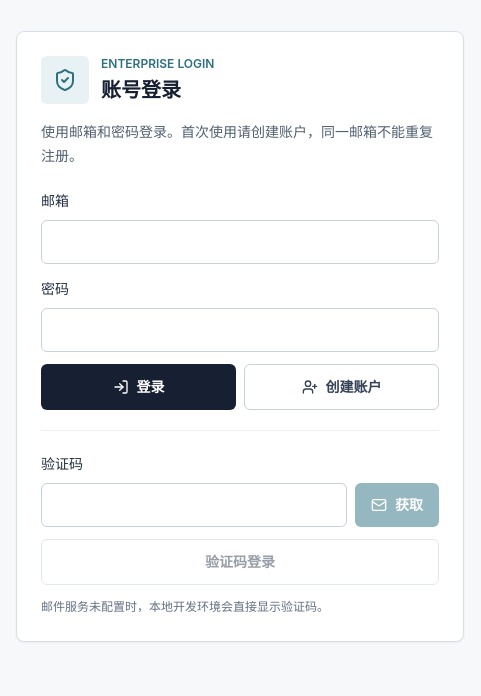
Test case: LoginPanel › shows the duplicate registration message without authenticating
The image size is (481, 696).
In the field labelled "邮箱": (240, 242) 41,220 -> 439,264, type "user@example.com"
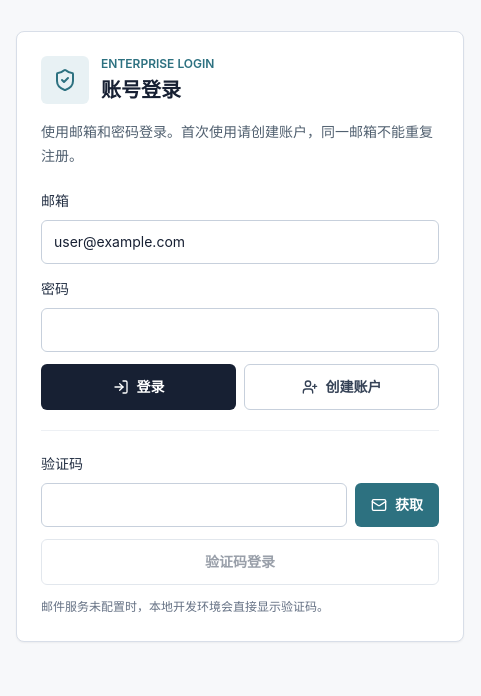
In the password field labelled "密码": (240, 330) 41,308 -> 439,352, type "secure123"
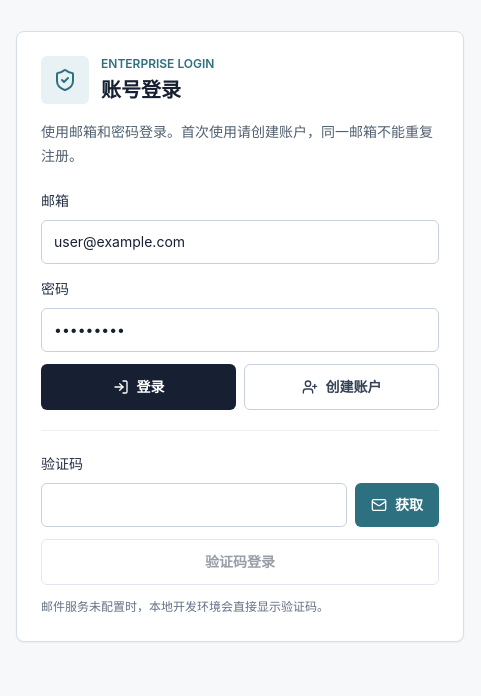
Click the button "创建账户": (342, 386) 244,364 -> 439,410
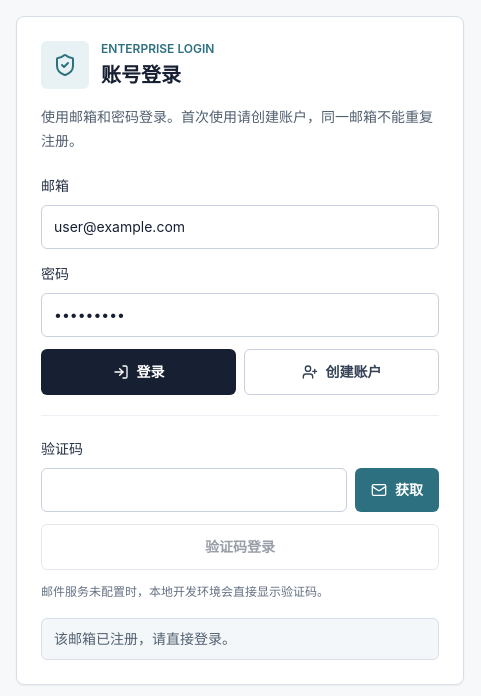
Expected: the text "该邮箱已注册，请直接登录。" is shown, 41,618 -> 439,660
